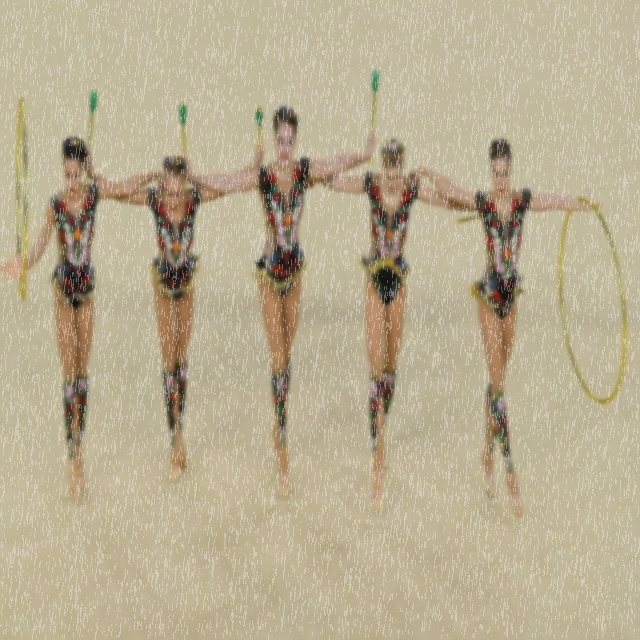pessoa: (179, 100, 377, 504), (406, 132, 604, 523), (302, 135, 480, 518), (82, 137, 266, 488)
